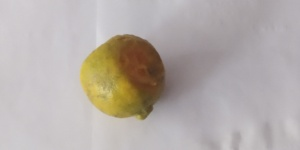BAD: (79, 35, 164, 119)
